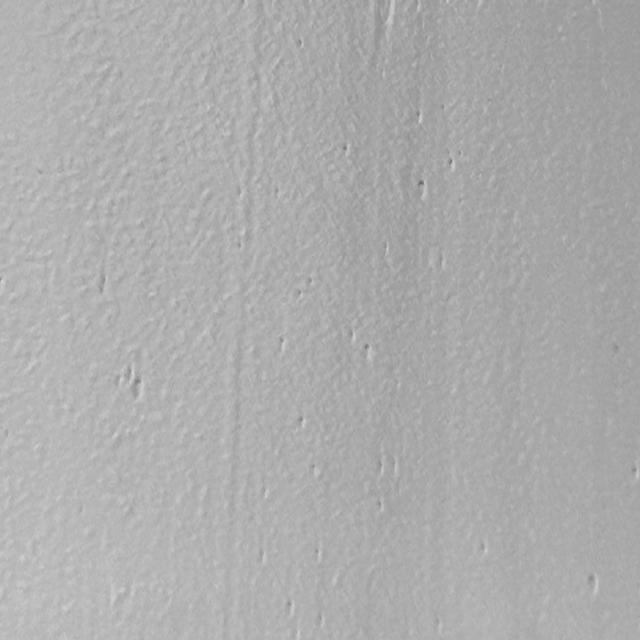pin holes: (375, 0, 397, 27), (583, 570, 603, 598), (130, 376, 149, 405), (414, 179, 432, 205), (280, 598, 297, 622), (361, 342, 377, 366), (294, 412, 310, 436), (475, 540, 492, 562), (372, 455, 388, 477), (274, 332, 289, 355), (256, 546, 270, 566), (311, 546, 325, 565), (313, 613, 327, 631), (293, 290, 307, 305), (374, 499, 387, 515), (414, 107, 424, 126), (294, 39, 306, 53), (383, 241, 391, 260), (342, 142, 351, 157), (447, 156, 455, 171), (350, 328, 357, 345), (630, 466, 638, 480), (238, 239, 242, 251)
